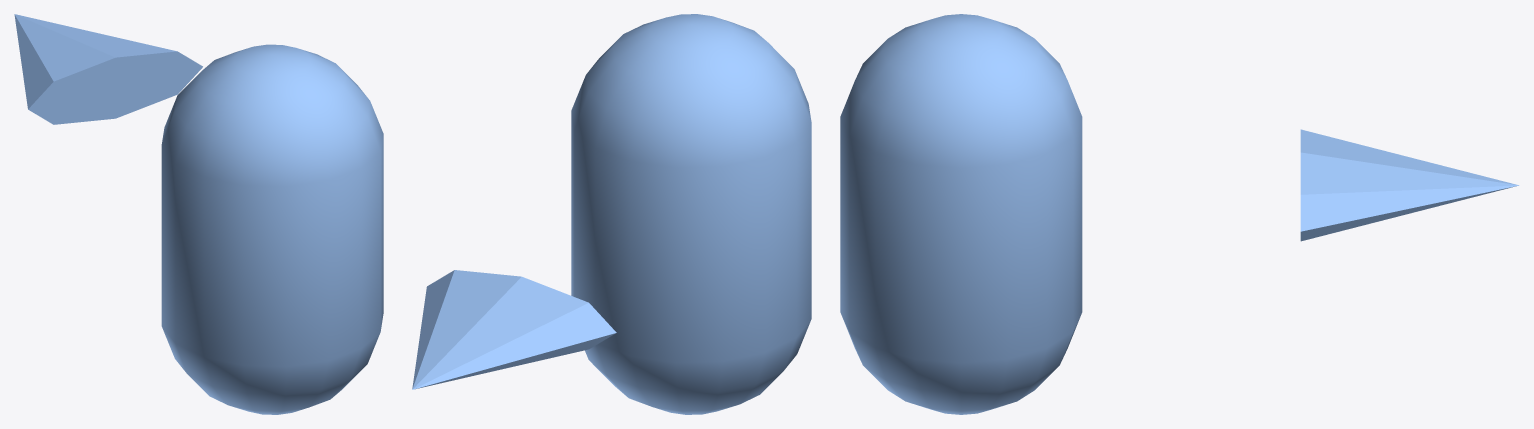
File: player0.glb
3 renders of one model, left to right at view 1: azimuth 30°, elevation 25°; view 2: azimuth 150°, elevation 25°; view 3: azimuth 270°, elevation 25°, orthographic. The views are drawn at different scales.
Visible parts, largest first — view 1: Sphere, Cone; view 2: Sphere, Cone; view 3: Sphere, Cone.
Part boxes in pixels (box(x1,y1,x2,y2)): Sphere: box(161, 44, 383, 414); Cone: box(14, 14, 202, 124); Sphere: box(571, 14, 811, 414); Cone: box(412, 270, 616, 389); Sphere: box(840, 14, 1082, 414); Cone: box(1300, 129, 1519, 241).
Bounding box in the file's own units: 0.4004 × 0.6909 × 1.12.
